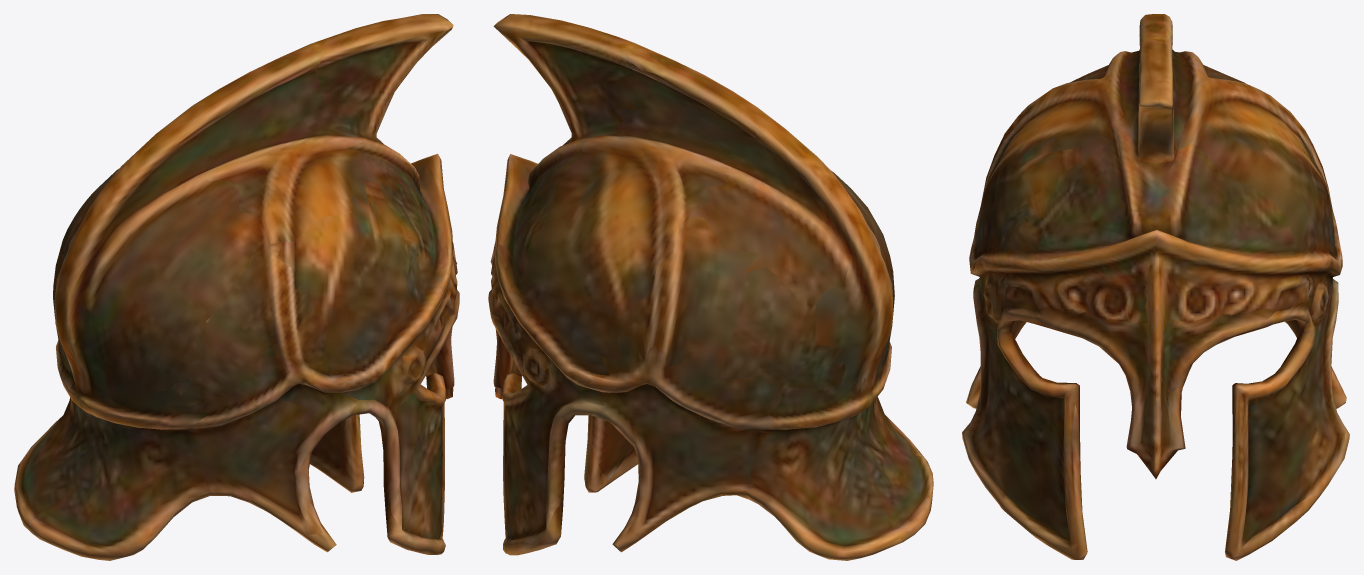
File: hat_helm.glb
The picture shows the model from 3 angles, left to right: view 1: azimuth 30°, elevation 25°; view 2: azimuth 150°, elevation 25°; view 3: azimuth 270°, elevation 25°; orthographic projection.
Parts seen in each view (by area): view 1: tripo_node_478ef746-1df5-4f84-8af9-e4e658f60a72; view 2: tripo_node_478ef746-1df5-4f84-8af9-e4e658f60a72; view 3: tripo_node_478ef746-1df5-4f84-8af9-e4e658f60a72.
Part boxes in pixels (<box>): tripo_node_478ef746-1df5-4f84-8af9-e4e658f60a72: <box>14,14,459,560</box>; tripo_node_478ef746-1df5-4f84-8af9-e4e658f60a72: <box>488,14,933,560</box>; tripo_node_478ef746-1df5-4f84-8af9-e4e658f60a72: <box>962,14,1349,560</box>.
Size of the model in its own units: 0.3083 by 0.35 by 0.2509.
1 material, 1 textured.
